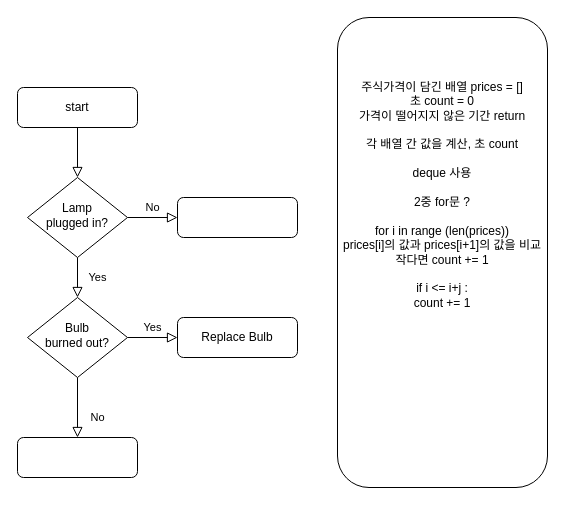
The diagram is 565 pixels wide and 505 high, and some of its shapes have lost their labels. The centre of each missing label's shape, as x and y in pixels:
"Plug in lamp" belongs at [237,217].
"Repair Lamp" belongs at [77,457].
